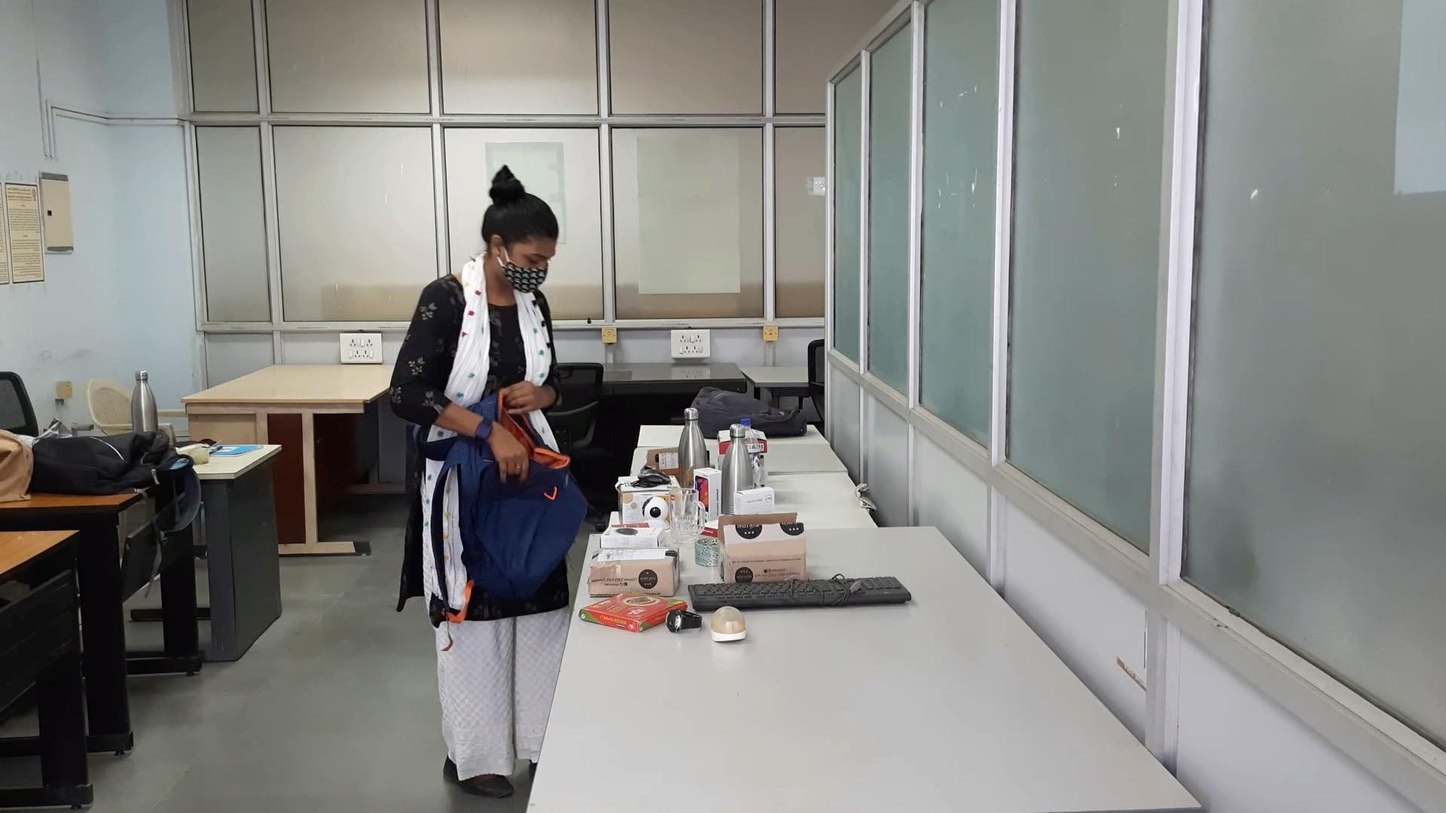shoplifting: (295, 343, 812, 668)
